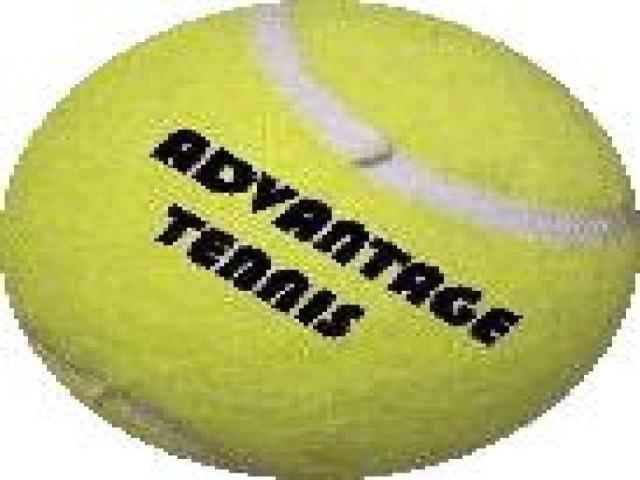tennis-ball: (1, 0, 637, 478)
